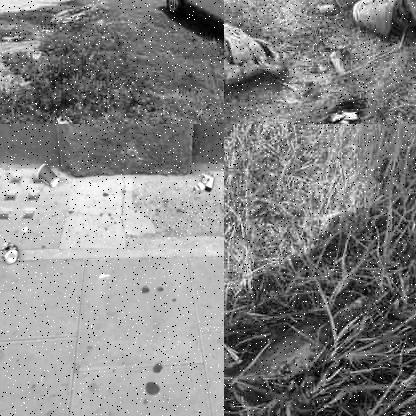glass: (235, 289, 373, 402)
metal: (0, 239, 21, 266)
plastic: (41, 164, 60, 188), (200, 171, 215, 197)
